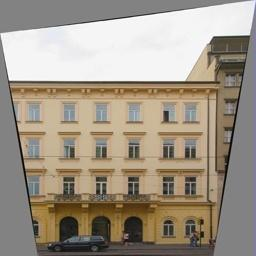building: (8, 73, 217, 240)
